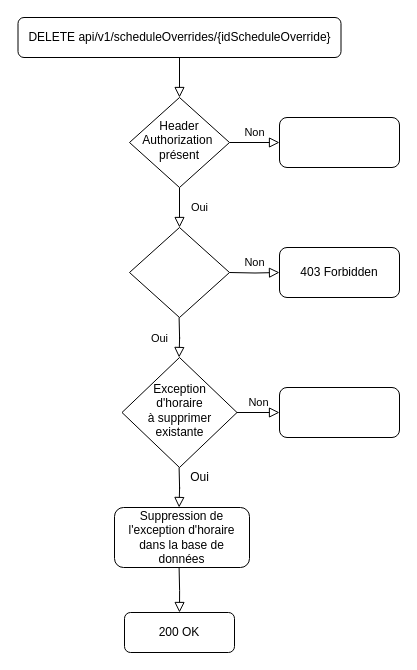
The diagram is 417 pixels wide and 670 high, and some of its shapes have lost their labels. The shapes that lost their labels are listed below. From the top down, each one's centre as x and y in pixels, then its label:
At [339,142]: "401 Unauthorized".
At [179,272]: "Utilisateur administrateur".
At [339,412]: "404 Not Found".
